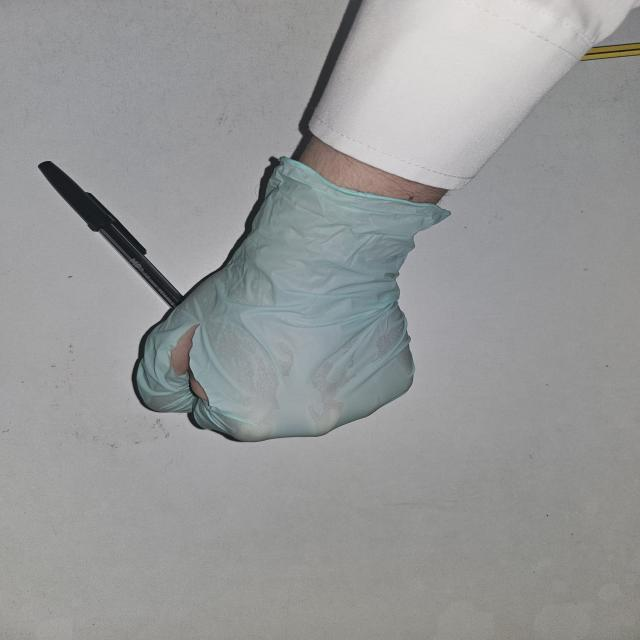gloves_damaged: (127, 154, 460, 443)
